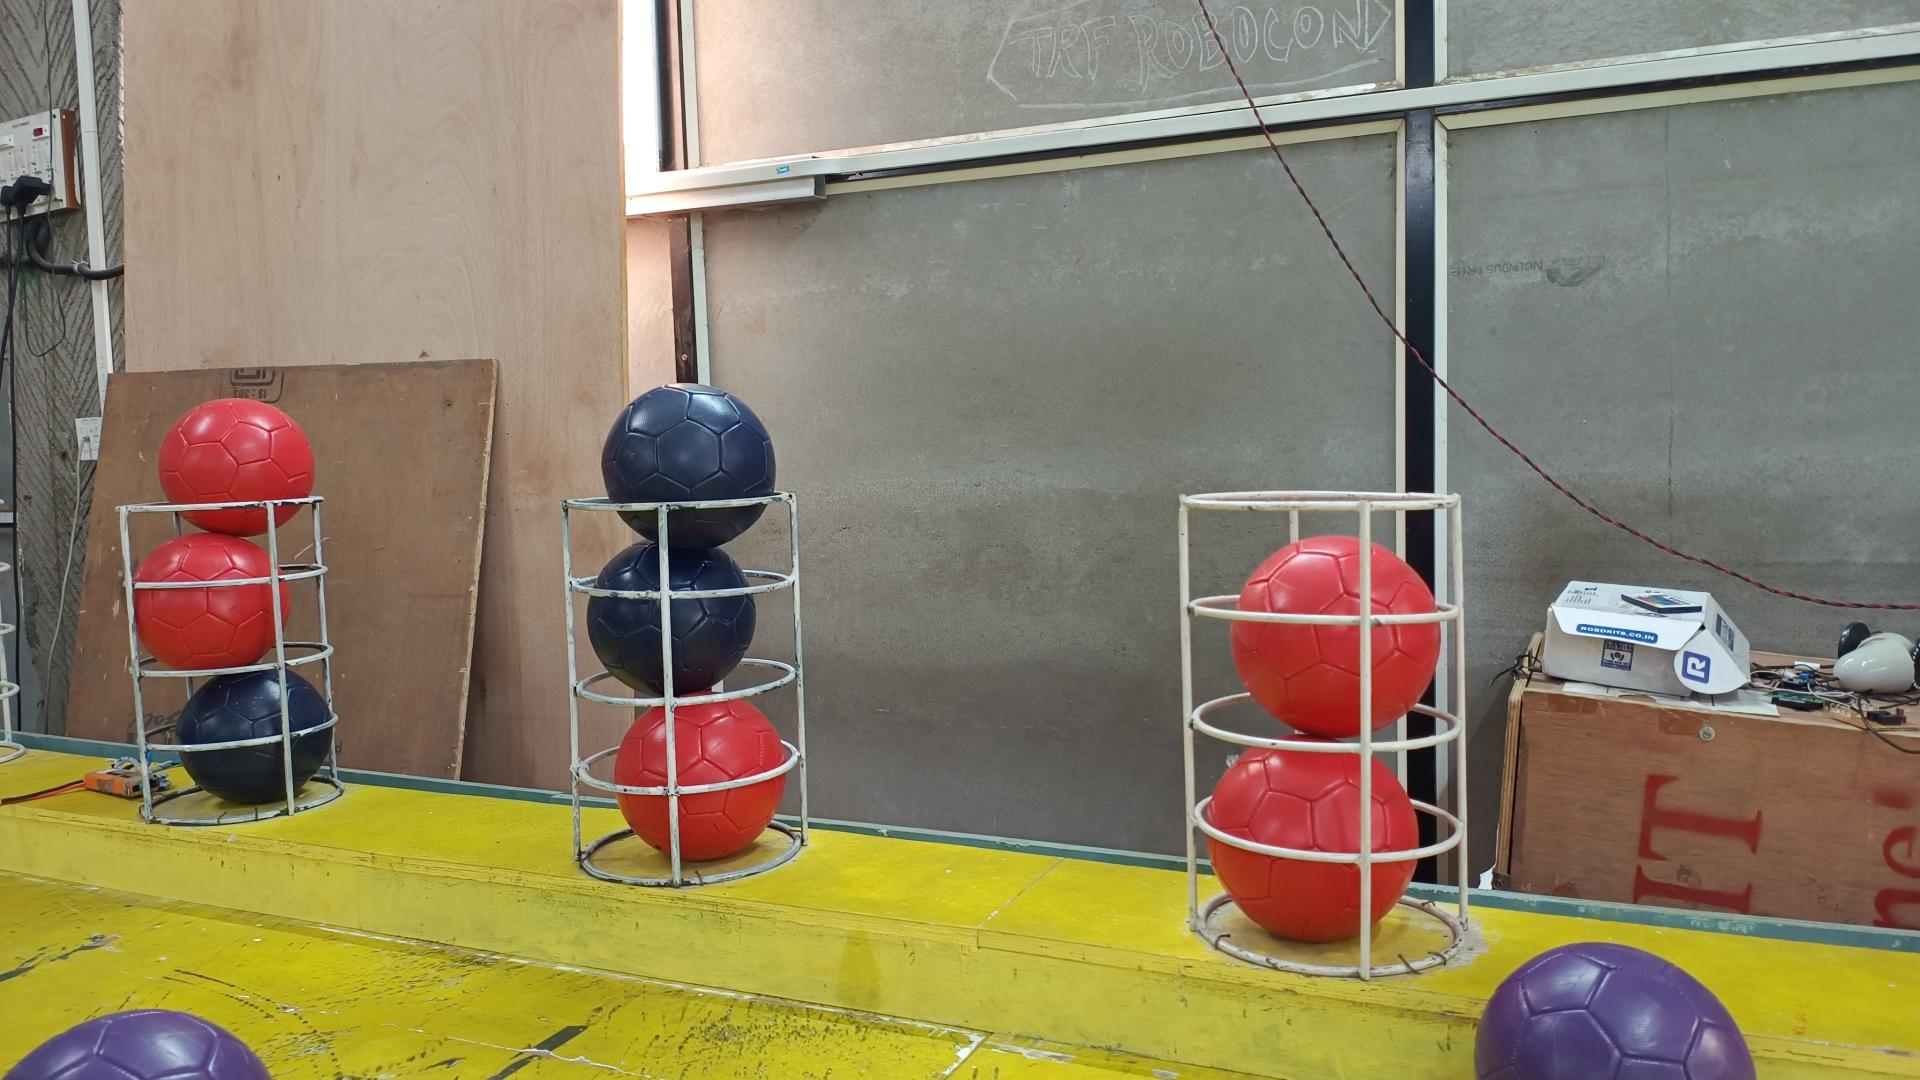dhoka: (600, 382, 777, 551), (585, 541, 757, 698), (177, 667, 334, 806)
laale: (1204, 746, 1422, 942), (1230, 537, 1440, 738), (615, 698, 787, 862), (157, 397, 315, 537), (135, 533, 293, 671)
